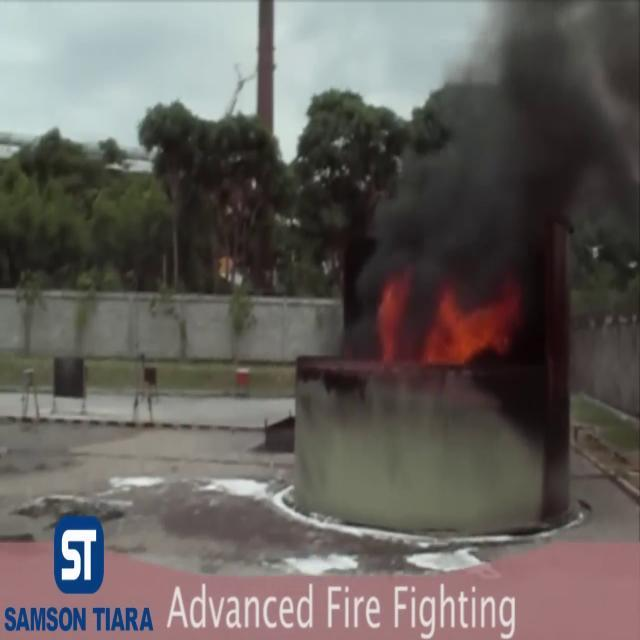Fire: (378, 277, 514, 380)
Smoke: (366, 0, 640, 345)
